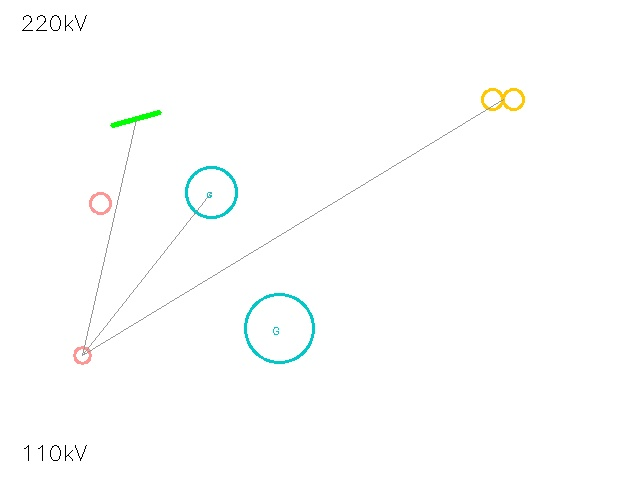busbar: (105, 88, 167, 150)
disconnect_switch: (65, 338, 99, 372)
generator: (245, 294, 313, 362), (186, 167, 236, 217)
reactor: (79, 182, 121, 224)
transformer_2w: (476, 72, 530, 126)
